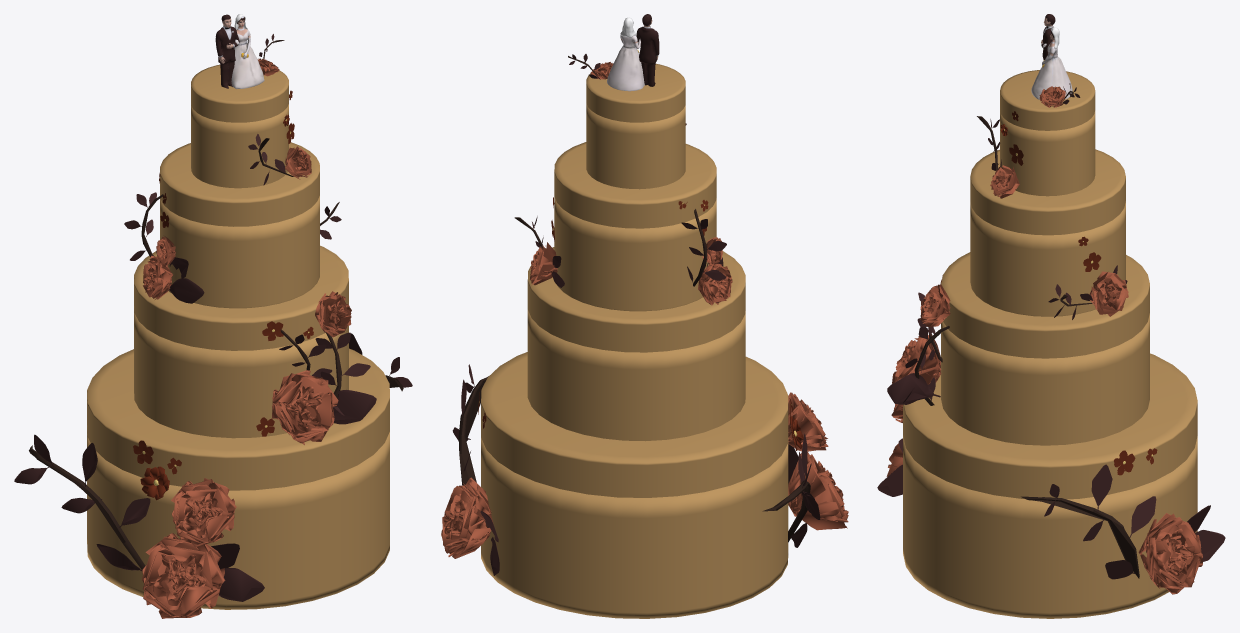
Rendered from 4-tier-caramel-roses-bridegroom.glb.
3 views of the same model, side by side, from view 1: azimuth 30°, elevation 25°; view 2: azimuth 150°, elevation 25°; view 3: azimuth 270°, elevation 25° (orthographic).
Parts seen in each view (by area): view 1: 3.001, 3, 2, 1, grid.013, Plane.024, grid.016, grid.012, 13501_Cake_Topper_Bride_Groom_v1_L1.001, grid.015, Plane.009, Plane.022 (+7 smaller); view 2: 3.001, 3, 2, 1, grid.020, 13501_Cake_Topper_Bride_Groom_v1_L1.001, grid.013, Plane.008, Plane.024, grid.012, grid.017, Plane.023 (+1 smaller); view 3: 3.001, 3, 2, 1, grid.020, Plane.008, 13501_Cake_Topper_Bride_Groom_v1_L1.001, grid.016, grid.019, Plane.009, grid.015, grid.021 (+3 smaller).
Boxes of the visible parts, left/top/right/bottom form: 3.001: left=87, top=348, right=389, bottom=609; 3: left=134, top=245, right=348, bottom=438; 2: left=160, top=142, right=319, bottom=308; 1: left=191, top=64, right=288, bottom=188; grid.013: left=142, top=533, right=225, bottom=618; Plane.024: left=14, top=434, right=150, bottom=570; grid.016: left=272, top=370, right=338, bottom=444; grid.012: left=171, top=478, right=236, bottom=547; 13501_Cake_Topper_Bride_Groom_v1_L1.001: left=215, top=14, right=264, bottom=88; grid.015: left=315, top=291, right=351, bottom=337; Plane.009: left=333, top=390, right=376, bottom=424; Plane.022: left=218, top=568, right=264, bottom=601; 3.001: left=481, top=352, right=788, bottom=618; 3: left=527, top=247, right=745, bottom=441; 2: left=554, top=142, right=716, bottom=311; 1: left=586, top=63, right=685, bottom=189; grid.020: left=441, top=477, right=493, bottom=558; 13501_Cake_Topper_Bride_Groom_v1_L1.001: left=607, top=14, right=659, bottom=91; grid.013: left=788, top=452, right=848, bottom=530; Plane.008: left=452, top=364, right=488, bottom=485; Plane.024: left=762, top=433, right=820, bottom=547; grid.012: left=788, top=392, right=828, bottom=451; grid.017: left=698, top=263, right=732, bottom=305; Plane.023: left=681, top=209, right=726, bottom=286; 3.001: left=903, top=353, right=1197, bottom=618; 3: left=941, top=252, right=1149, bottom=445; 2: left=970, top=149, right=1125, bottom=316; 1: left=1000, top=70, right=1095, bottom=196; grid.020: left=1138, top=513, right=1202, bottom=594; Plane.008: left=1021, top=464, right=1156, bottom=579; 13501_Cake_Topper_Bride_Groom_v1_L1.001: left=1031, top=14, right=1072, bottom=99; grid.016: left=892, top=331, right=941, bottom=384; grid.019: left=1089, top=271, right=1128, bottom=316; Plane.009: left=887, top=373, right=940, bottom=404; grid.015: left=920, top=284, right=950, bottom=326; grid.021: left=990, top=165, right=1019, bottom=198.
Size of the model in its own units: 6.25 by 8.54 by 5.05.
7 materials, 1 textured.
